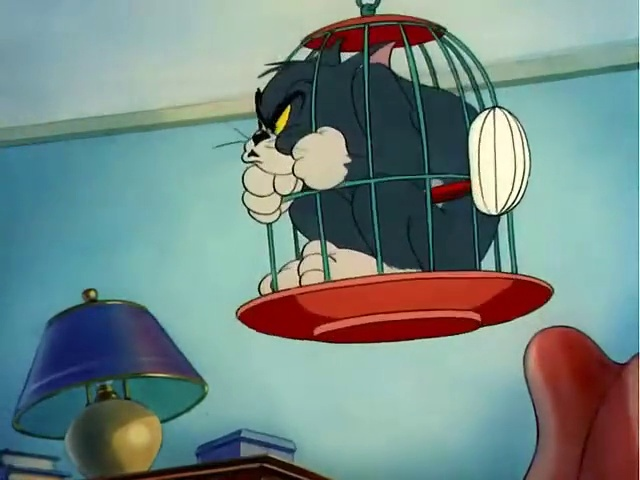tom: (201, 42, 534, 306)
